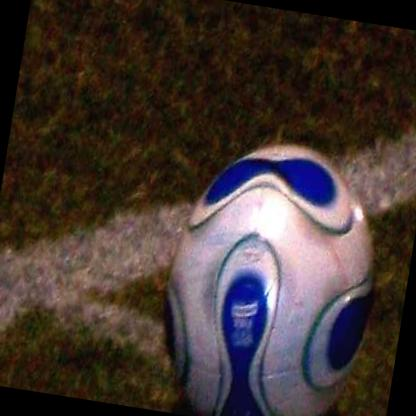ball: (146, 127, 392, 416)
